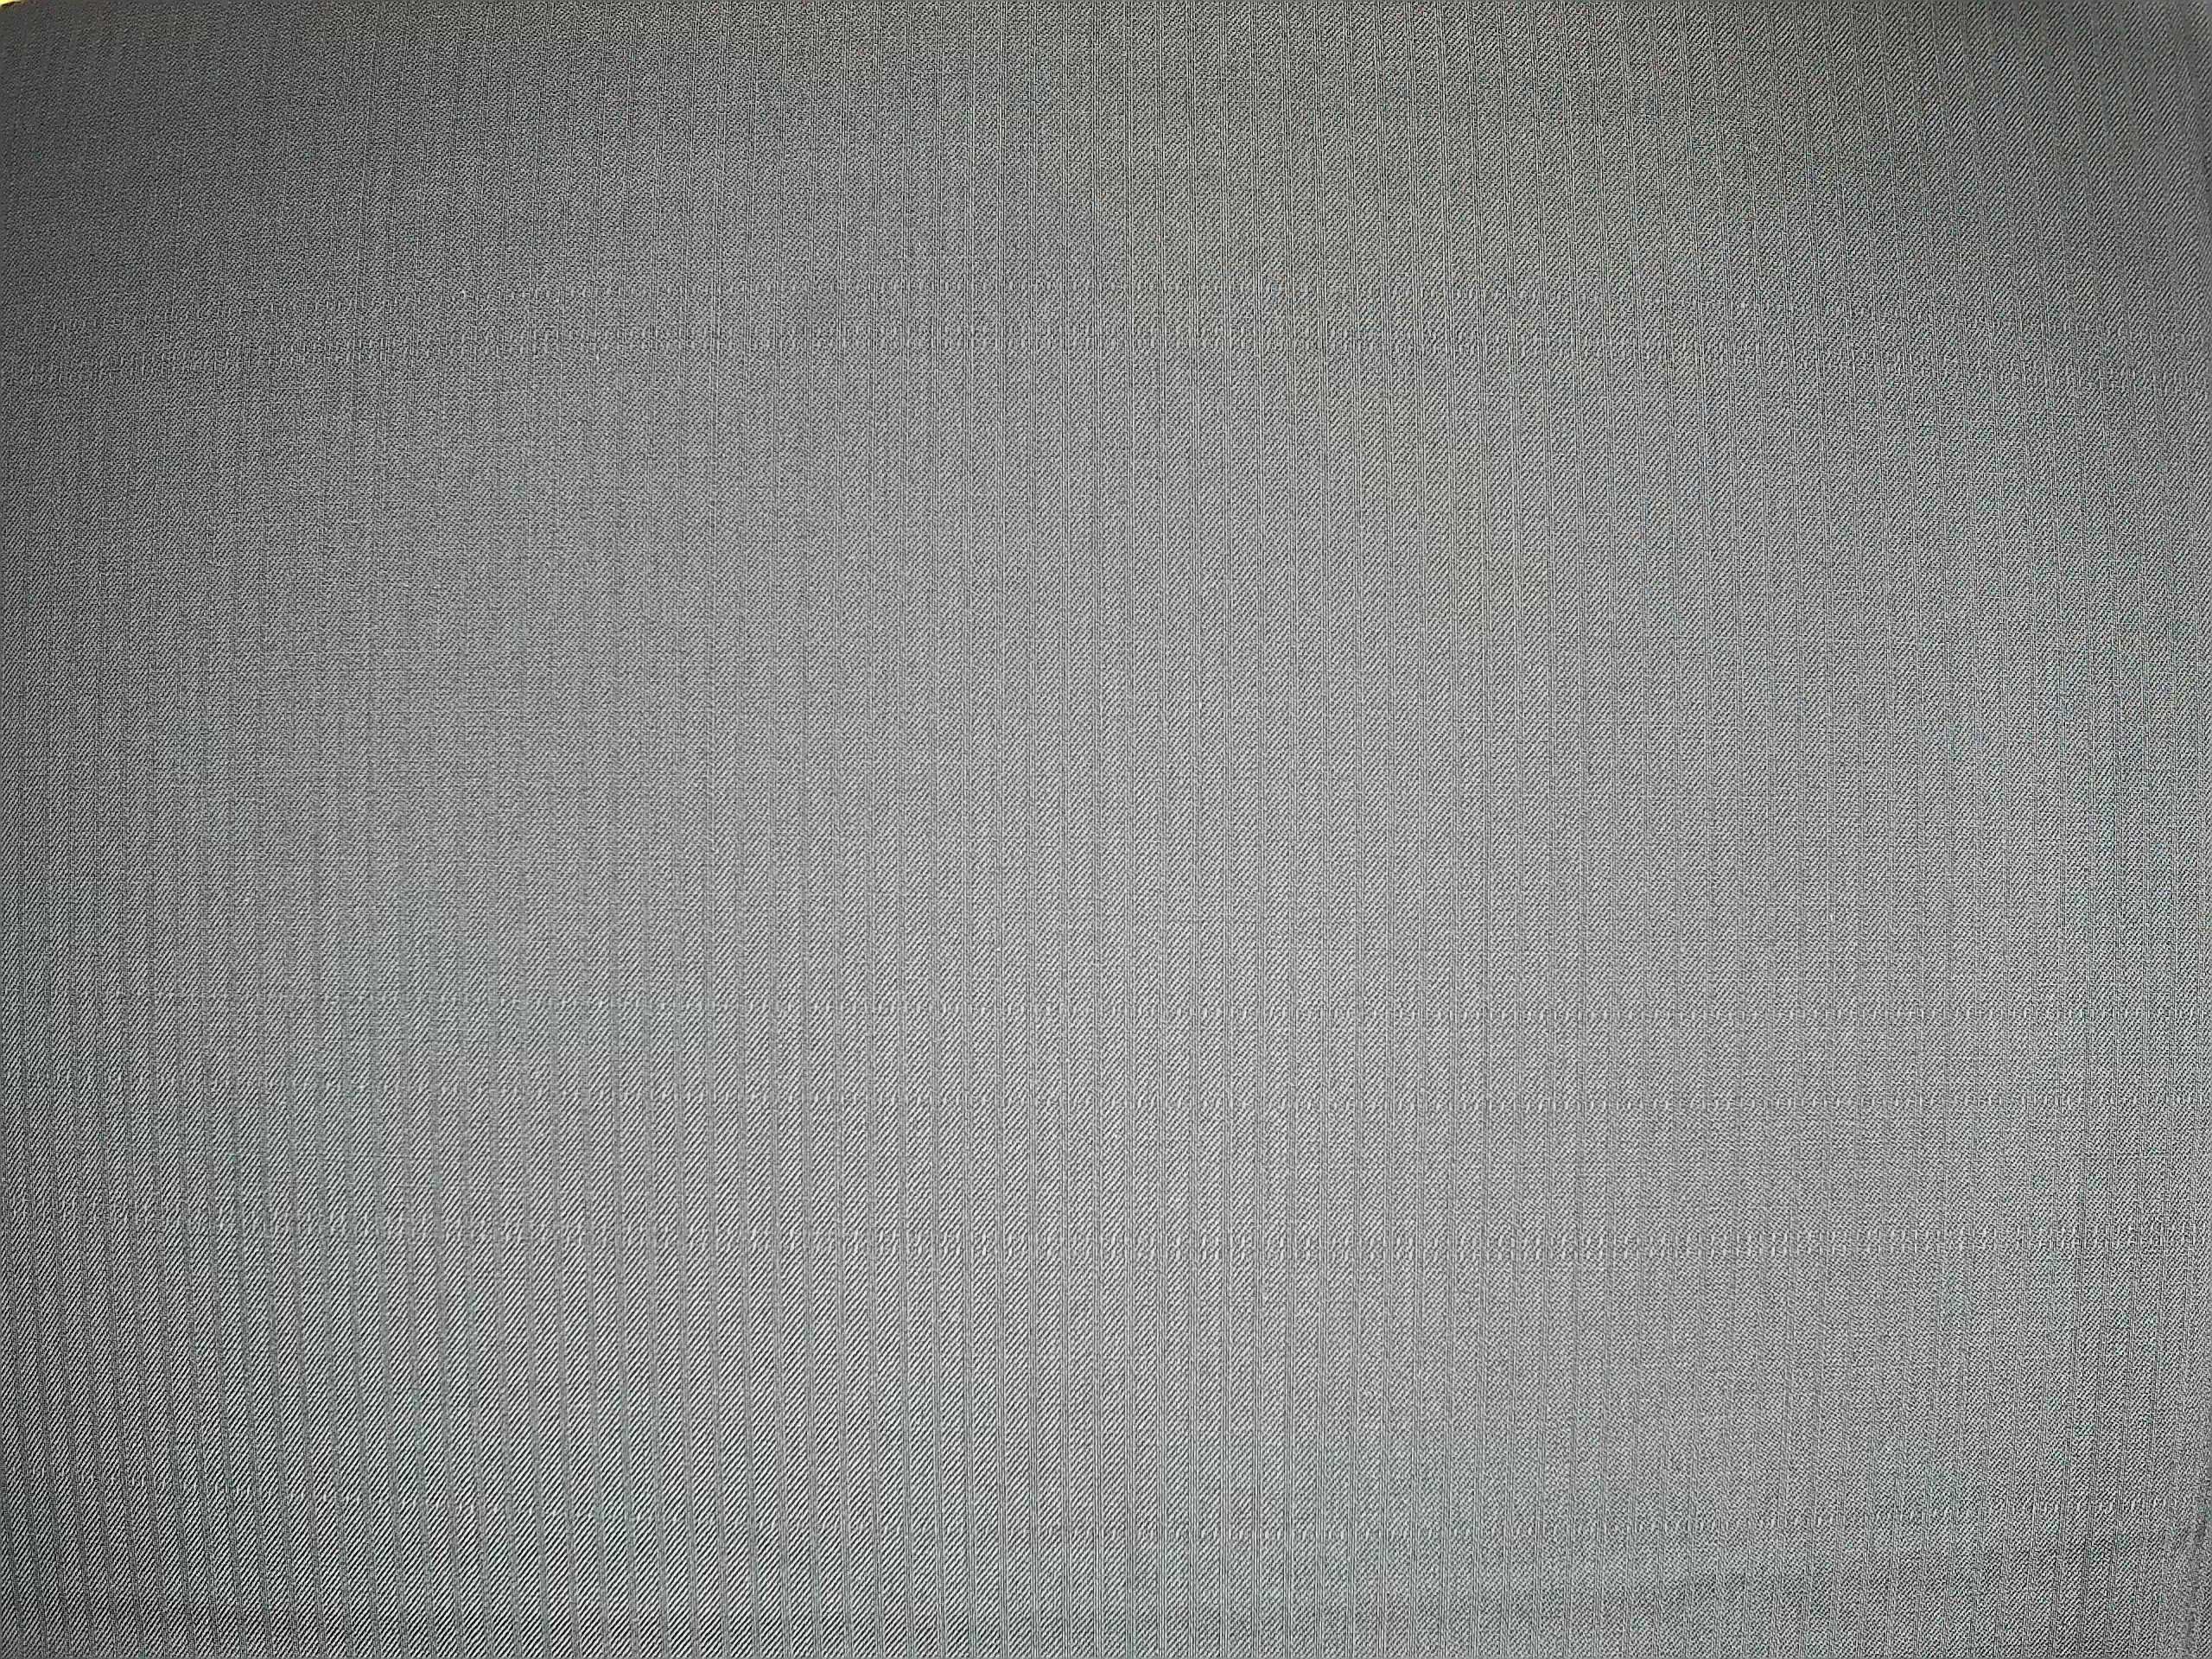others: (16, 967, 2212, 1126), (12, 265, 2203, 408), (12, 1182, 2203, 1274), (9, 1459, 2188, 1540)
